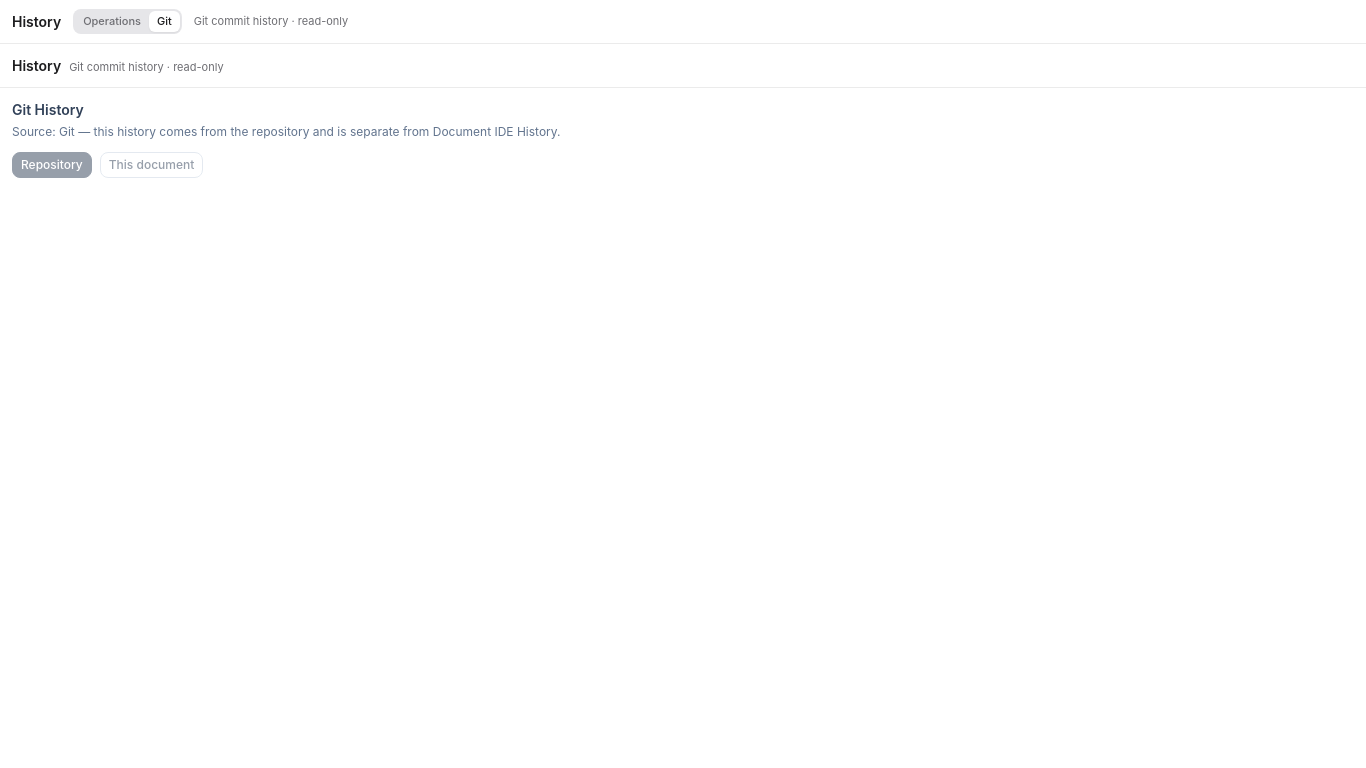
Test case: HistoryScreen — HIST-04 real operation listing › renders real rows, persisted outcome chips and the real storage meter
Click the radio button labelled "Operations" at (112, 22), box x1=75 y1=11 x2=149 y2=32
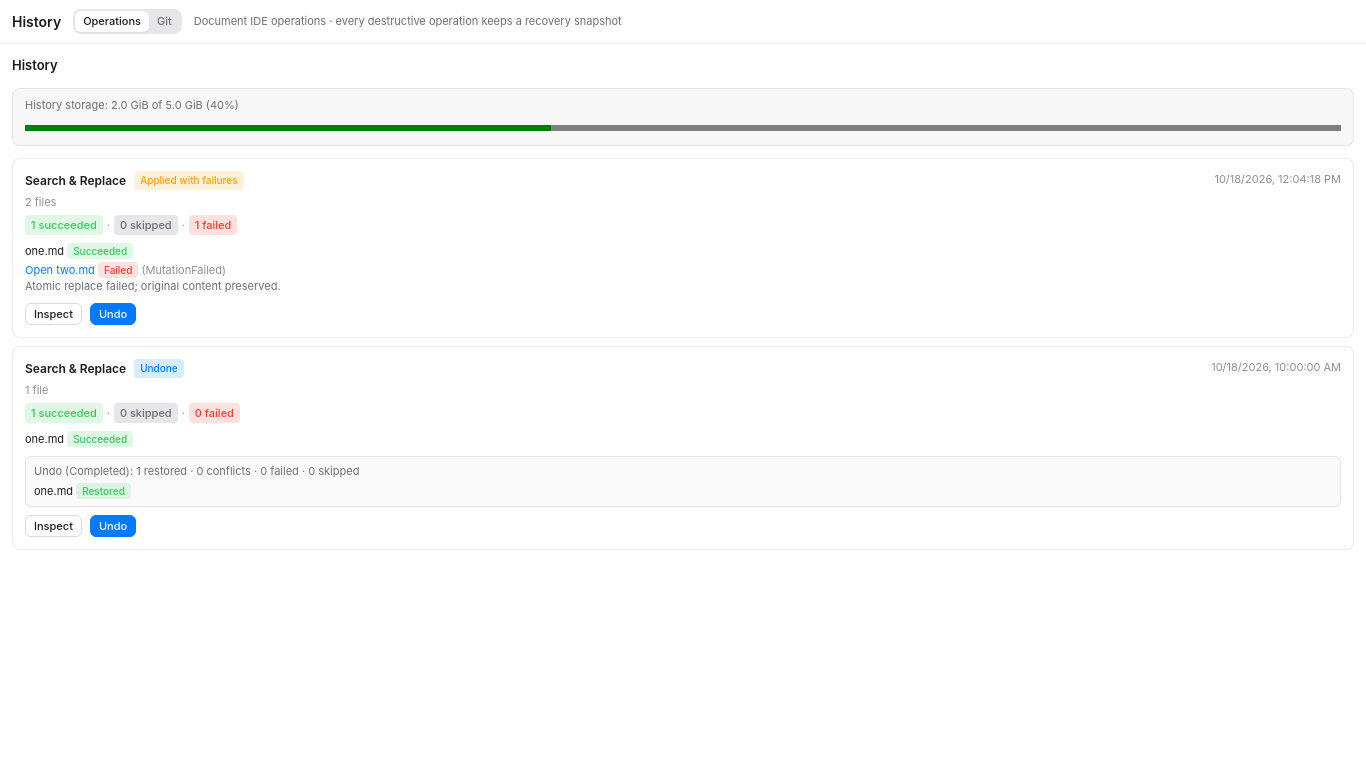
Check: the list named "Operation history" is shown, box x1=12 y1=158 x2=1354 y2=550
Check: the text with test id "history-entry-status" reads "Applied with failures", box x1=140 y1=174 x2=238 y2=186
Check: the text with test id "history-entry-file-count" reads "2 files", box x1=25 y1=195 x2=56 y2=209
